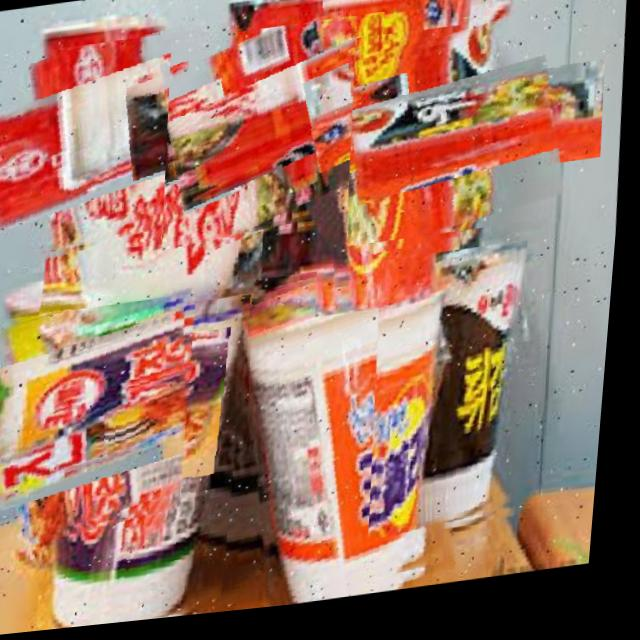Miscellaneous: (238, 260, 476, 618), (36, 298, 267, 634), (38, 86, 280, 342), (309, 0, 484, 325), (158, 19, 392, 255), (0, 296, 210, 556), (343, 21, 573, 254), (368, 251, 542, 551), (0, 32, 214, 267)
